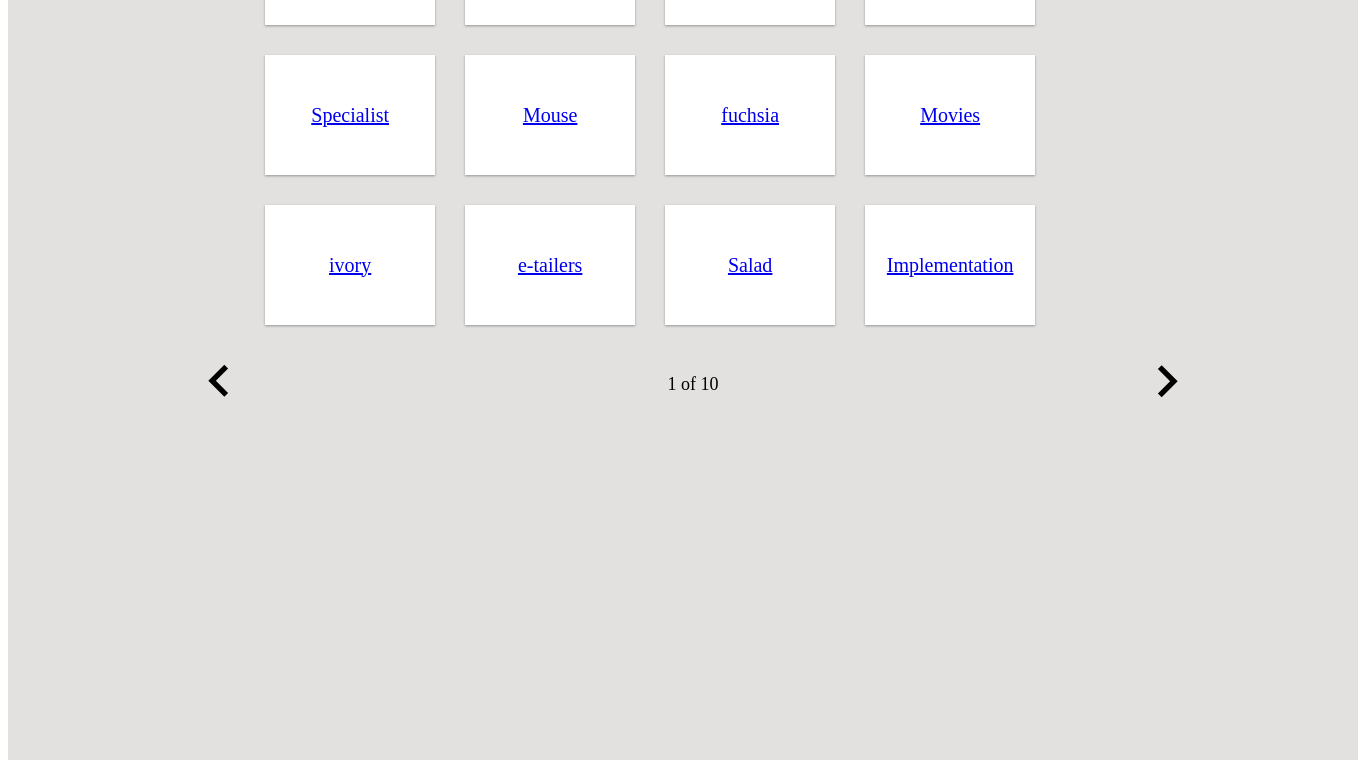
Scenario: HomePage › should be able to click on previous and reload pokemons
(page scrolled)
# click on next to be able to click on previous
Click the 2nd button at (1167, 384), box [1135,350,1199,418]
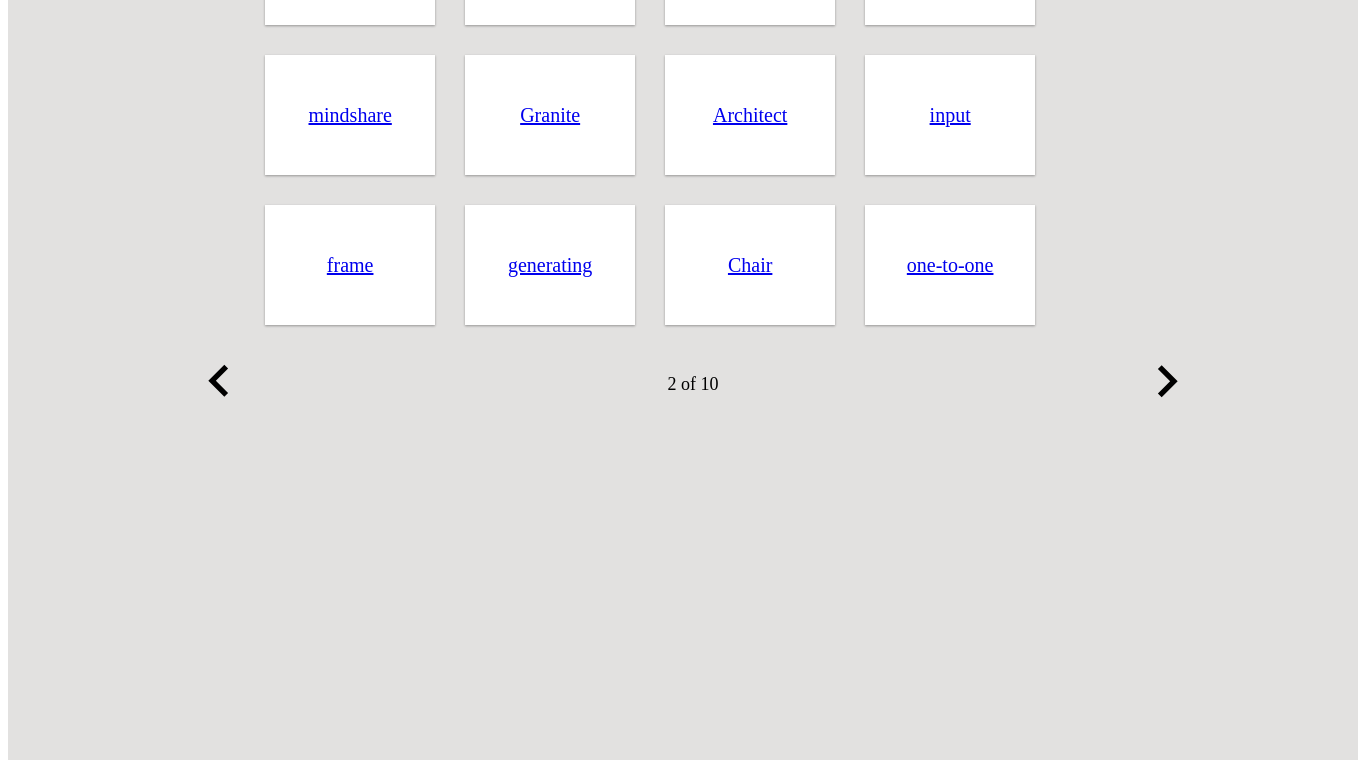
Click the 1st button at (219, 384), box [187,350,251,418]
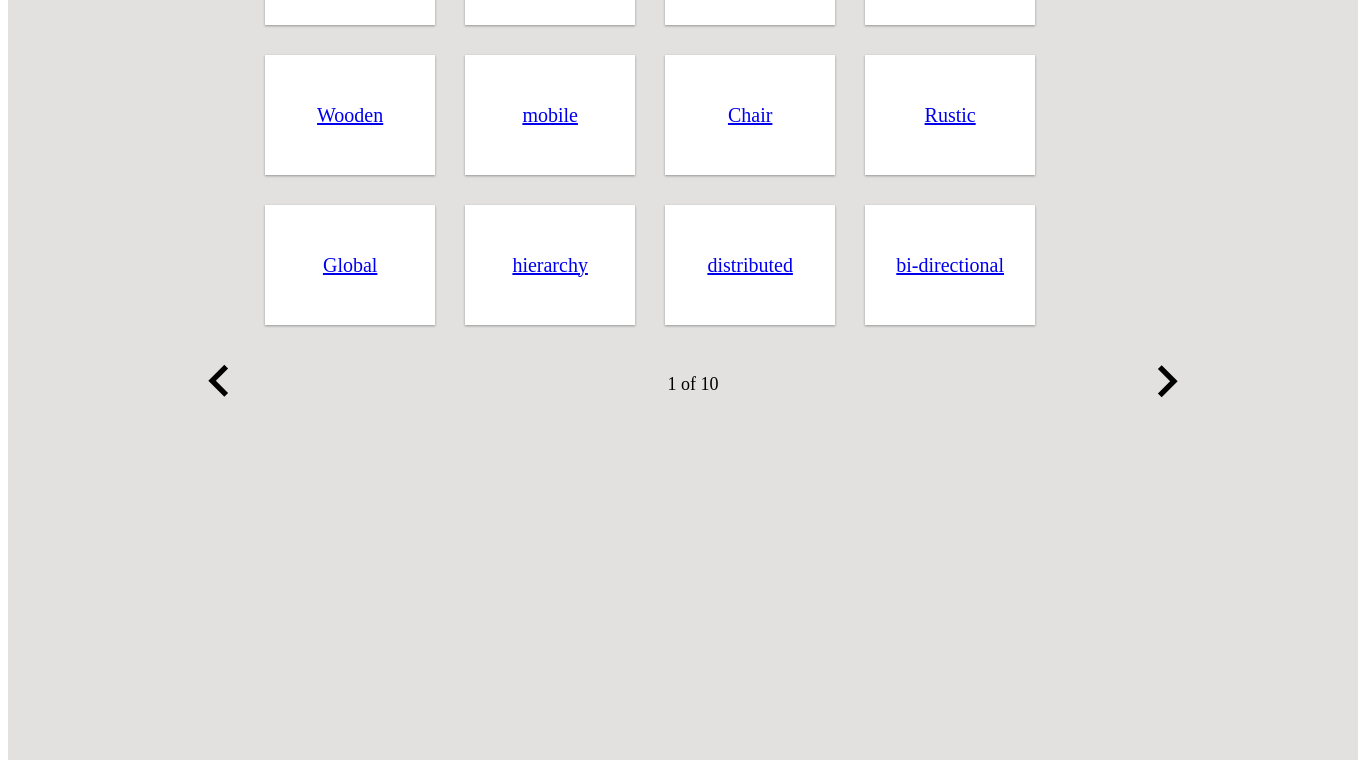
Expected: the text "1 of 10" is shown, [668,374,718,394]
